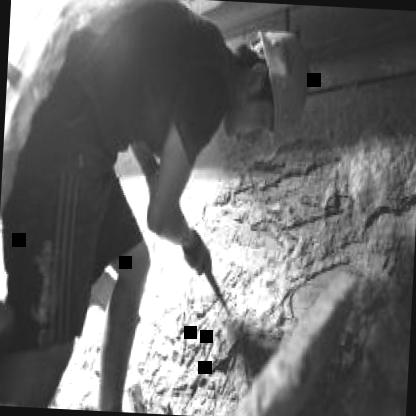helmet: (216, 18, 310, 141)
